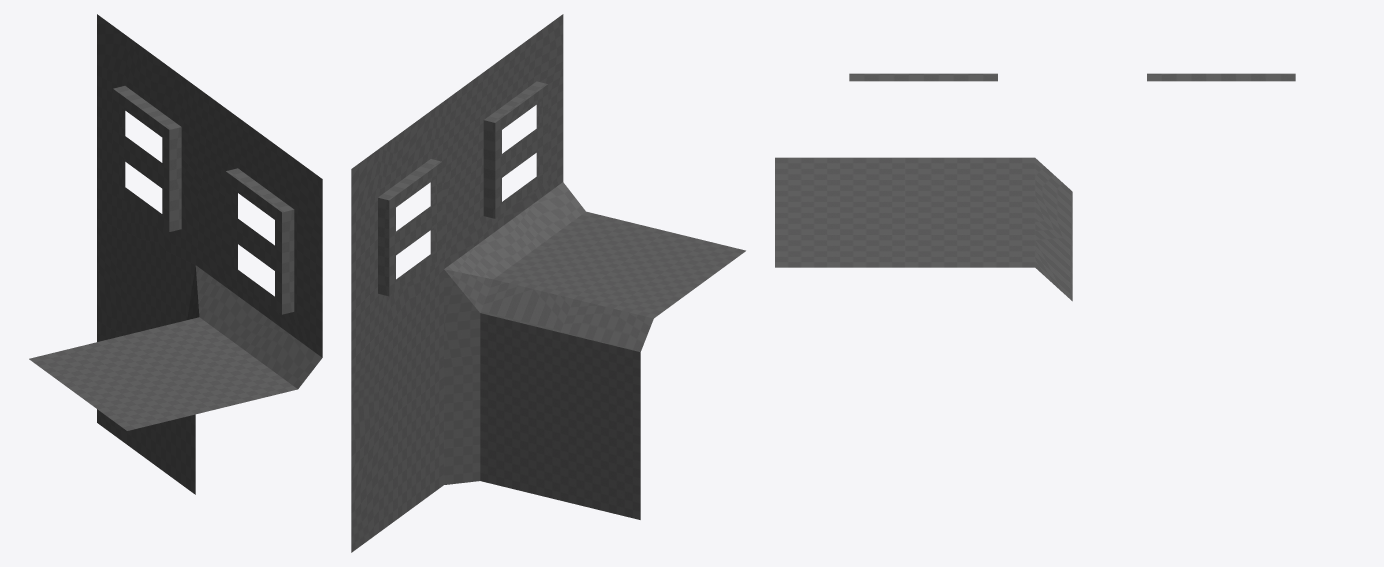
The picture shows the model from 3 angles, left to right: view 1: azimuth 30°, elevation 25°; view 2: azimuth 150°, elevation 25°; view 3: azimuth 270°, elevation 25°; orthographic projection. The views are drawn at different scales.
Visible parts, largest first — view 1: 2; view 2: 2; view 3: 2.
Part boxes in pixels (bbox=[...]): 2: bbox=[29, 14, 322, 494]; 2: bbox=[351, 14, 745, 552]; 2: bbox=[775, 73, 1295, 301].
Bounding box in the file's own units: 2 × 4 × 4.
2 materials, 2 textured.
